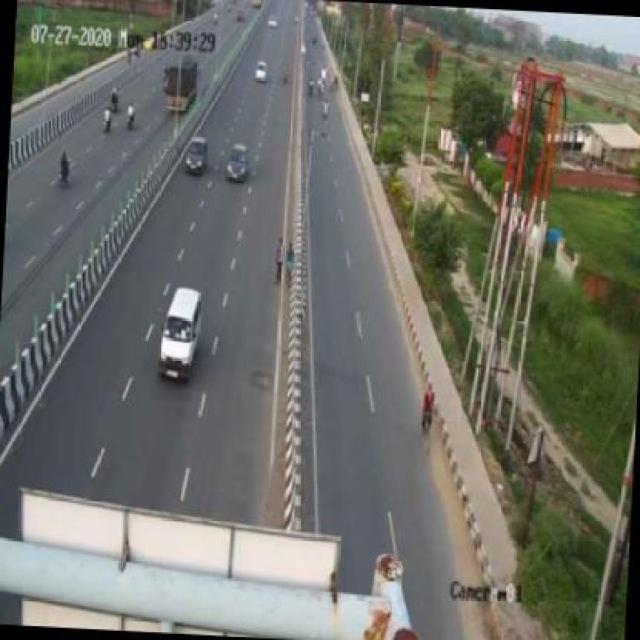car: (153, 283, 204, 382), (223, 136, 252, 190), (184, 131, 210, 175)
